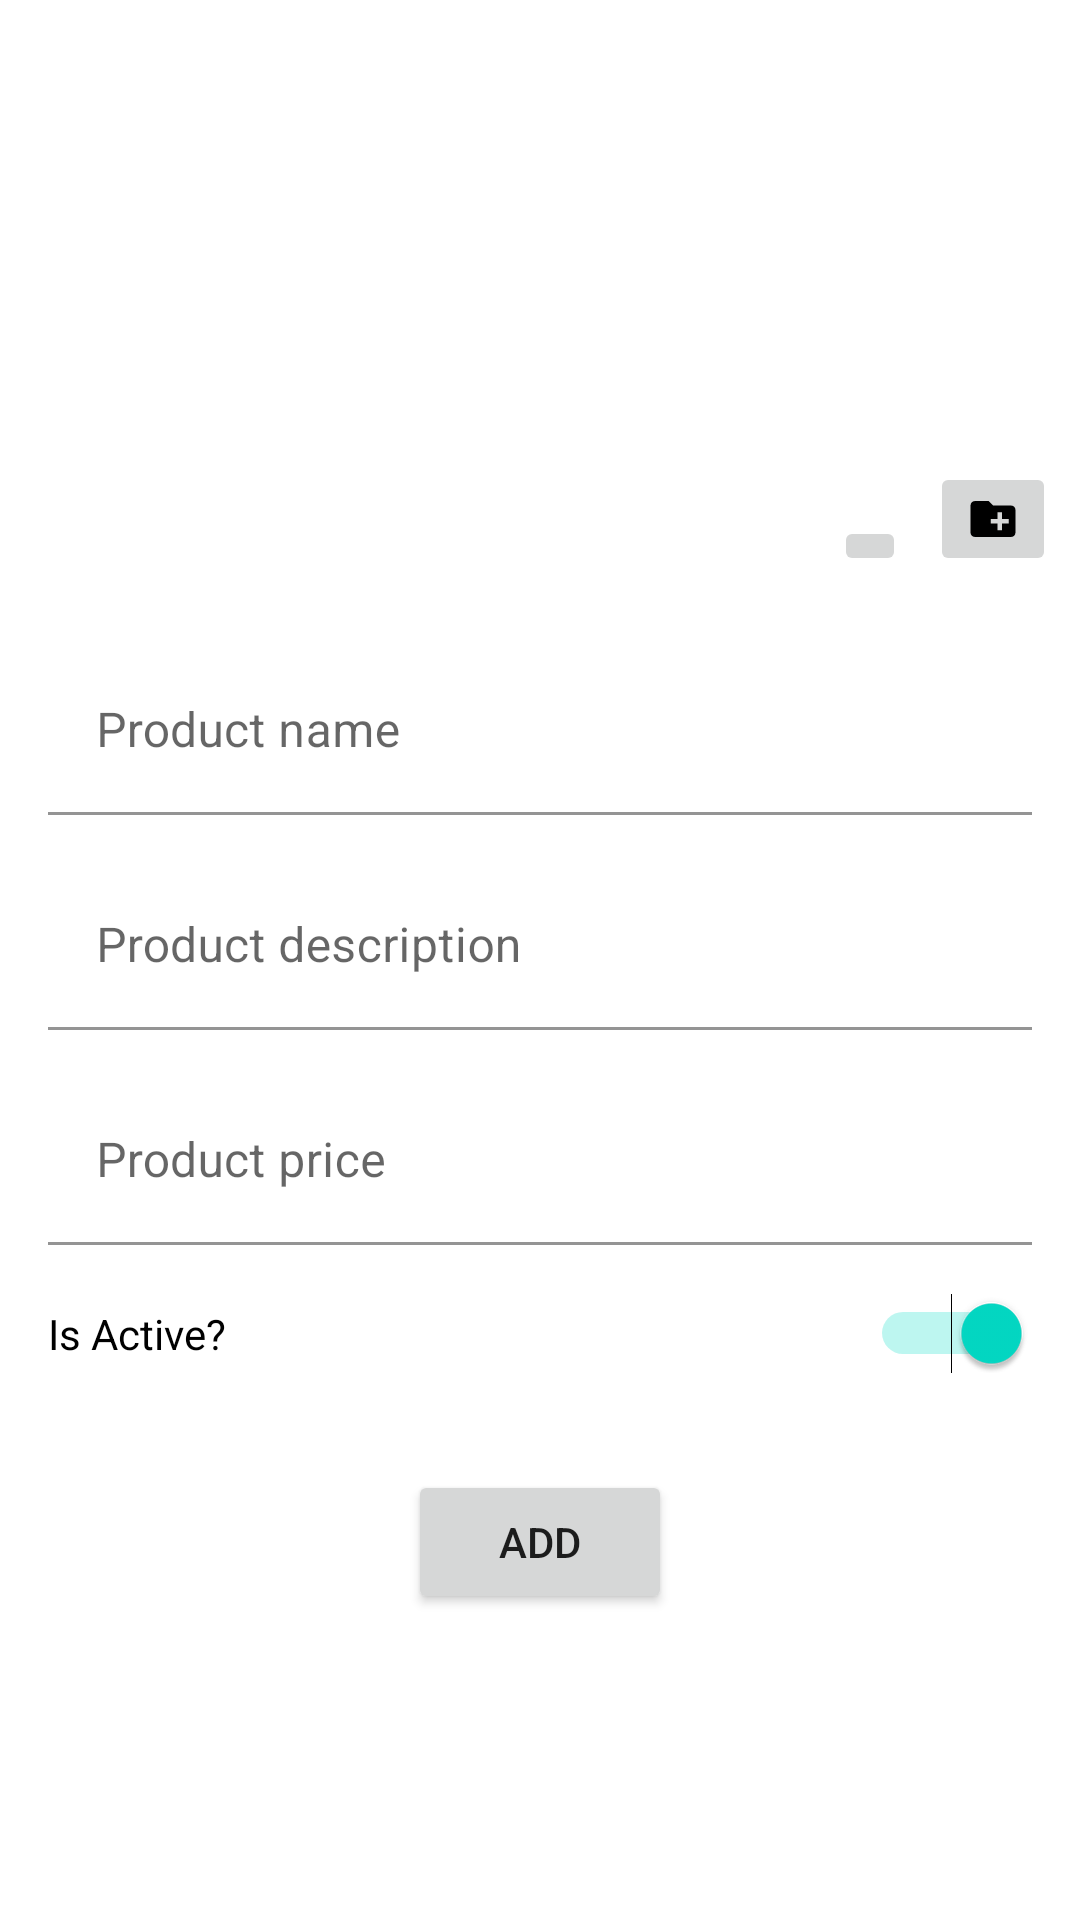

Named icons in this screenshot (1080 × 1920) and their centers, point (x, y):
create folder: point (993, 519)
